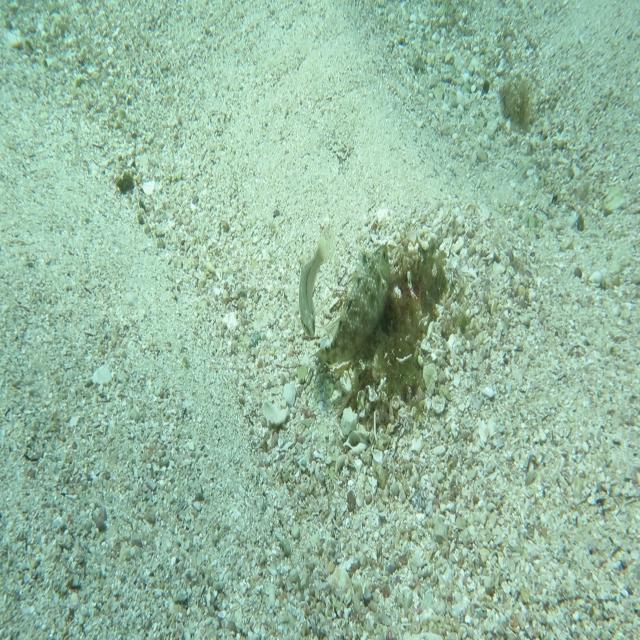BEND: (314, 241, 392, 366)
female: (298, 226, 337, 341)
nest: (318, 227, 450, 440)
